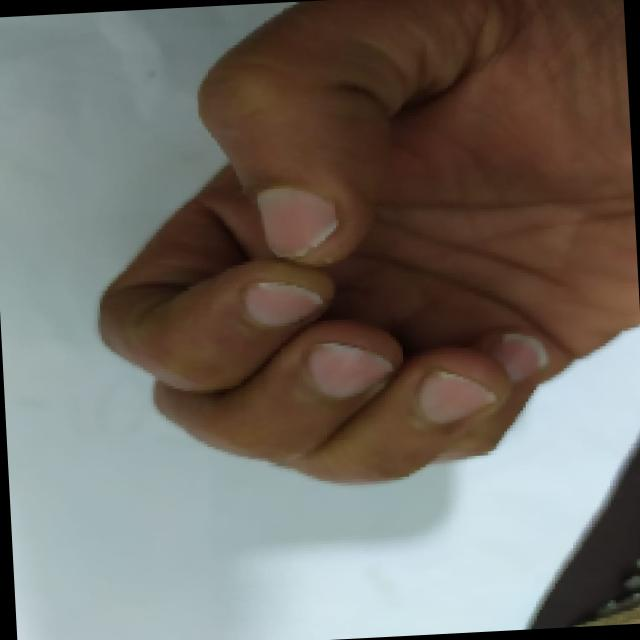Nail: (256, 187, 336, 256), (307, 343, 392, 396), (418, 370, 496, 423), (243, 282, 323, 326), (492, 333, 547, 380)
